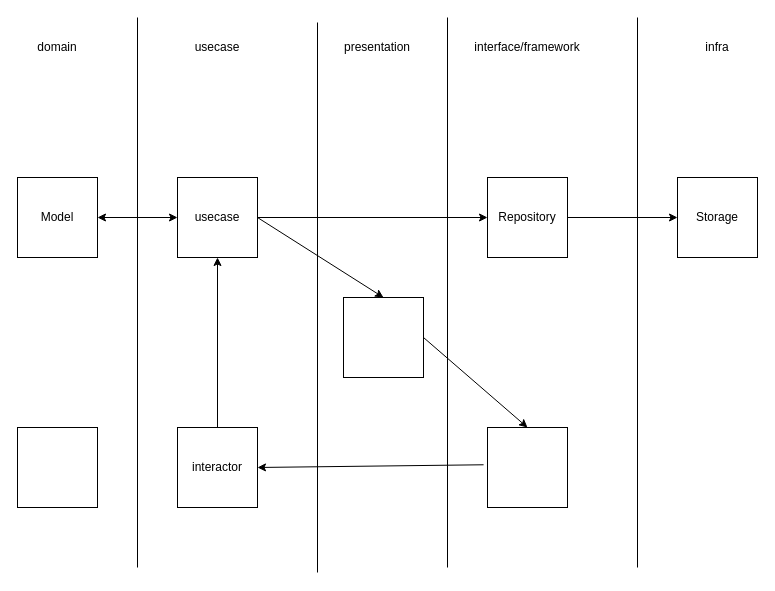
Some shapes in this 775 by 591 pixel diagram are drawn without their labels. The shapes that lost their labels are listed below. From the top down, each one's box as (x1, y1, x2, y2) in pixels, then its label:
(342, 296, 424, 378): presenter
(16, 426, 98, 508): Entity
(486, 426, 568, 508): controller
